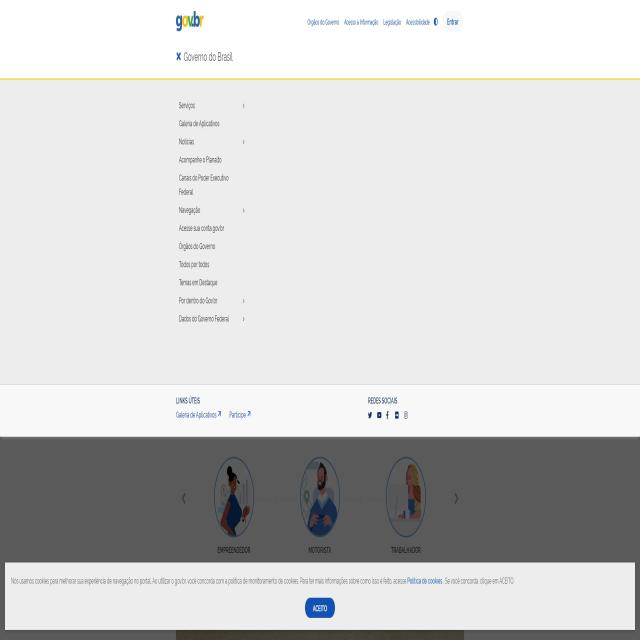menu-bar: (302, 11, 461, 31)
menu-panel: (175, 92, 247, 333)
